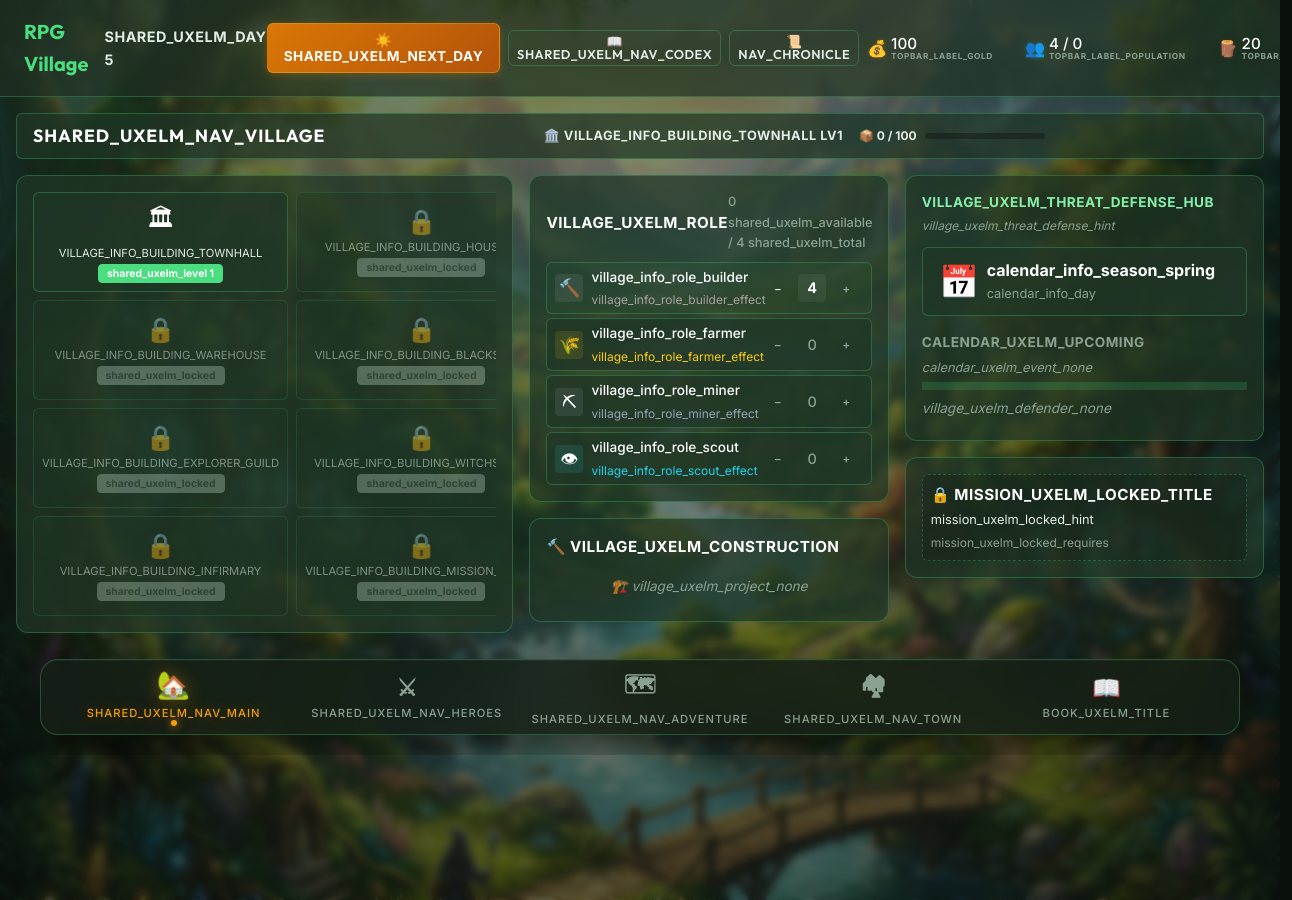
Test: App.vue › switches page when footer nav is clicked
Click the button with class "nav-item" showing "⚔ shared_uxelm_nav_heroes". click: (407, 697)
box: [290,666,523,728]
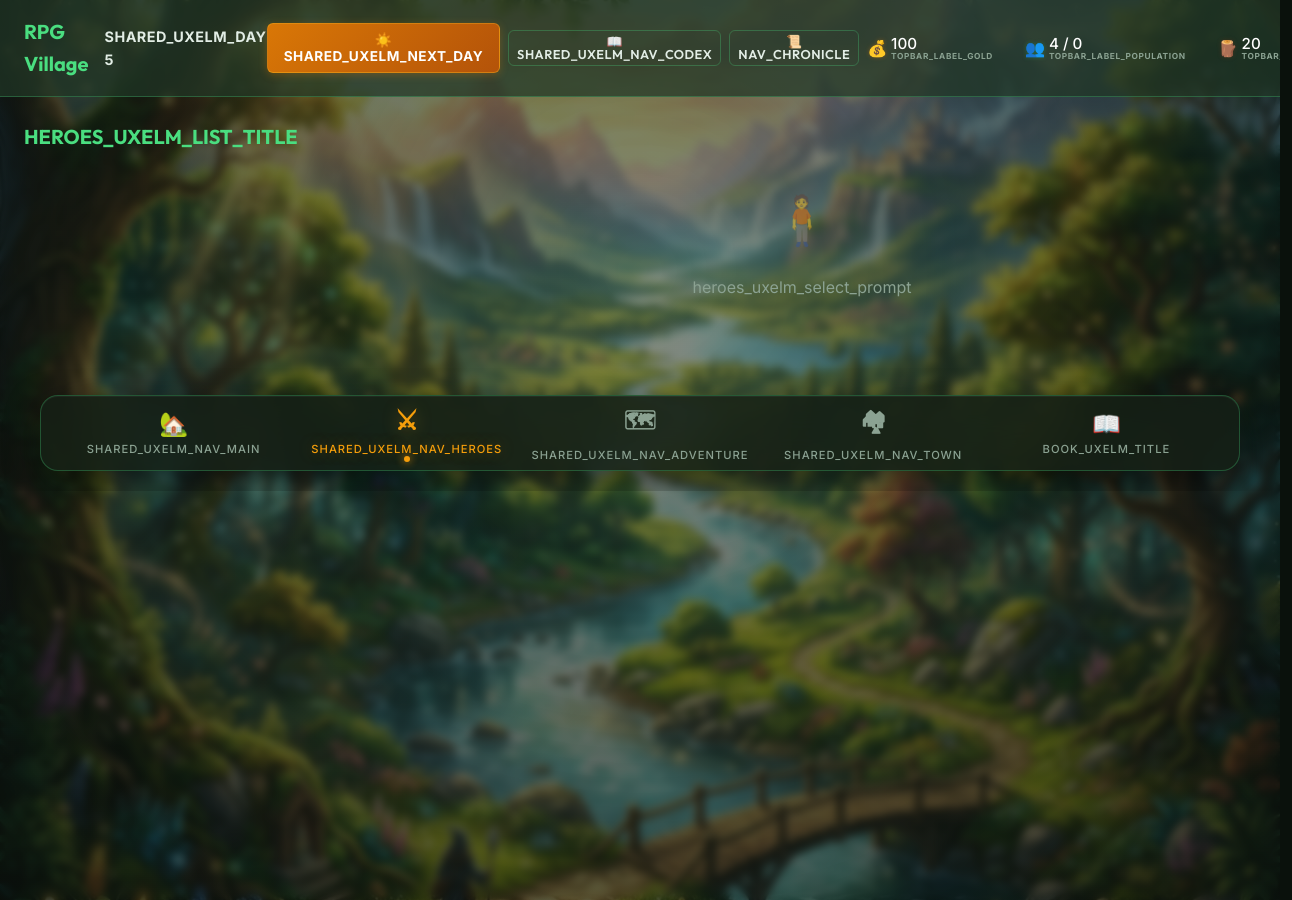
Expected: the element with class "heroes-page" is shown, [24,124,912,297]
